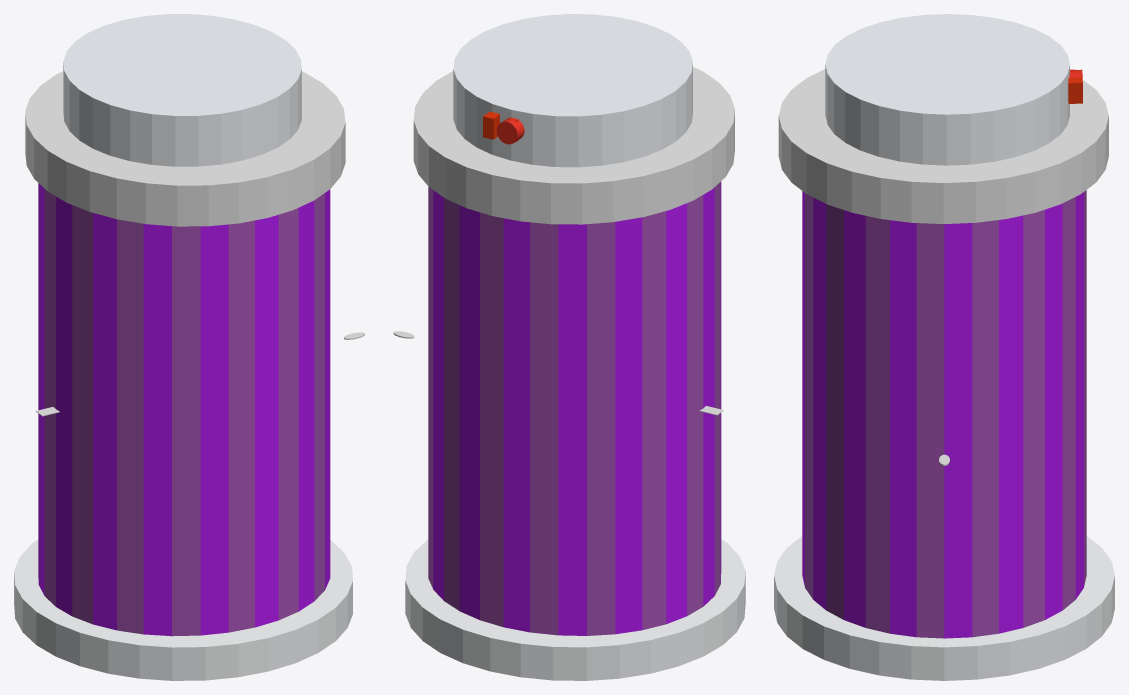
The model's file is Quat_hut.glb.
3 renders of one model, left to right at view 1: azimuth 30°, elevation 25°; view 2: azimuth 150°, elevation 25°; view 3: azimuth 270°, elevation 25°, orthographic.
Visible parts, largest first — view 1: Outer_Shell, Front_Cap, Cylinder, Back_Cap; view 2: Outer_Shell, Front_Cap, Cylinder, Back_Cap, Cylinder.001; view 3: Outer_Shell, Front_Cap, Cylinder, Back_Cap.
Part boxes in pixels (<box>): Outer_Shell: <box>38,183,330,636</box>; Front_Cap: <box>63,14,301,166</box>; Cylinder: <box>25,71,345,226</box>; Back_Cap: <box>14,539,352,680</box>; Outer_Shell: <box>428,181,721,635</box>; Front_Cap: <box>453,14,692,167</box>; Cylinder: <box>413,67,734,224</box>; Back_Cap: <box>405,539,745,680</box>; Cylinder.001: <box>496,117,524,144</box>; Outer_Shell: <box>802,190,1086,638</box>; Front_Cap: <box>825,14,1069,165</box>; Cylinder: <box>778,69,1108,223</box>; Back_Cap: <box>774,536,1114,680</box>.
Bounding box in the file's own units: 2.57 × 4.06 × 2.3.
